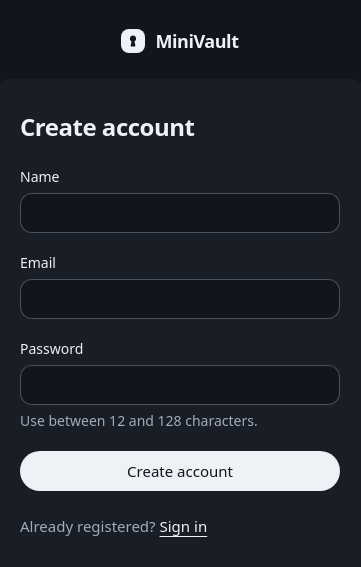
Test: validates registration before sending it
Type "Test" into the field labelled "Name".
click(180, 213); type("Test")  # box [20,193,340,233]
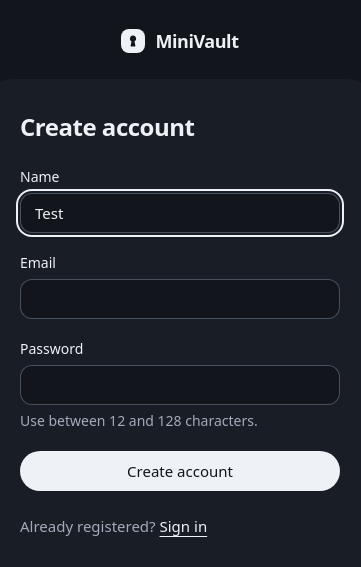
Type "nope" into the field labelled "Email".
click(180, 299); type("nope")  # box [20,279,340,319]
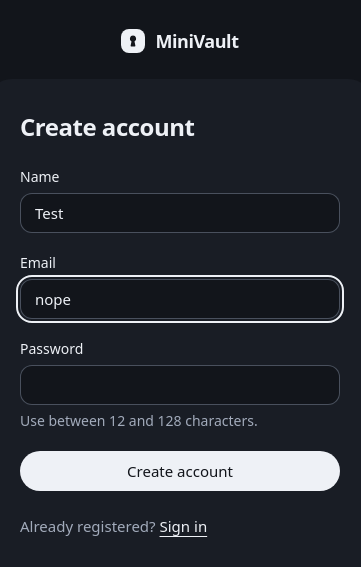
Type "short" into the password field labelled "Password".
click(180, 385); type("short")  # box [20,365,340,405]
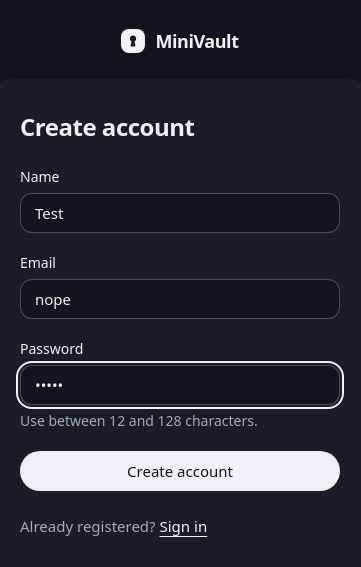
Click the button "Create account".
click(180, 471)  # box [20,451,340,491]
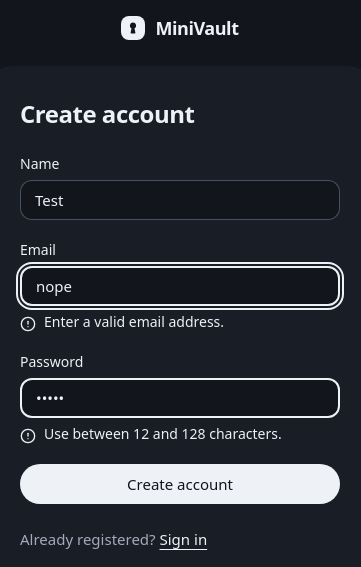
Expected: the text "Use between 12 and 128 characters." is shown, [20,424,282,444]
Expected: the text "Enter a valid email address." is shown, [20,312,224,332]
